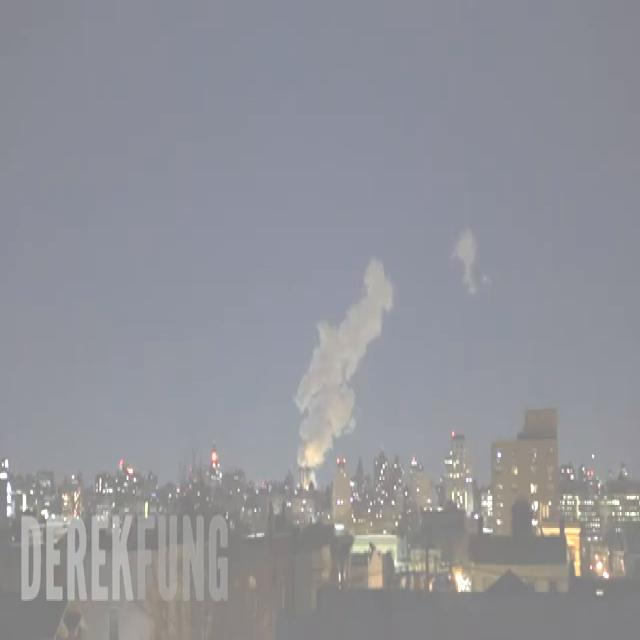smoke: (294, 260, 392, 485)
